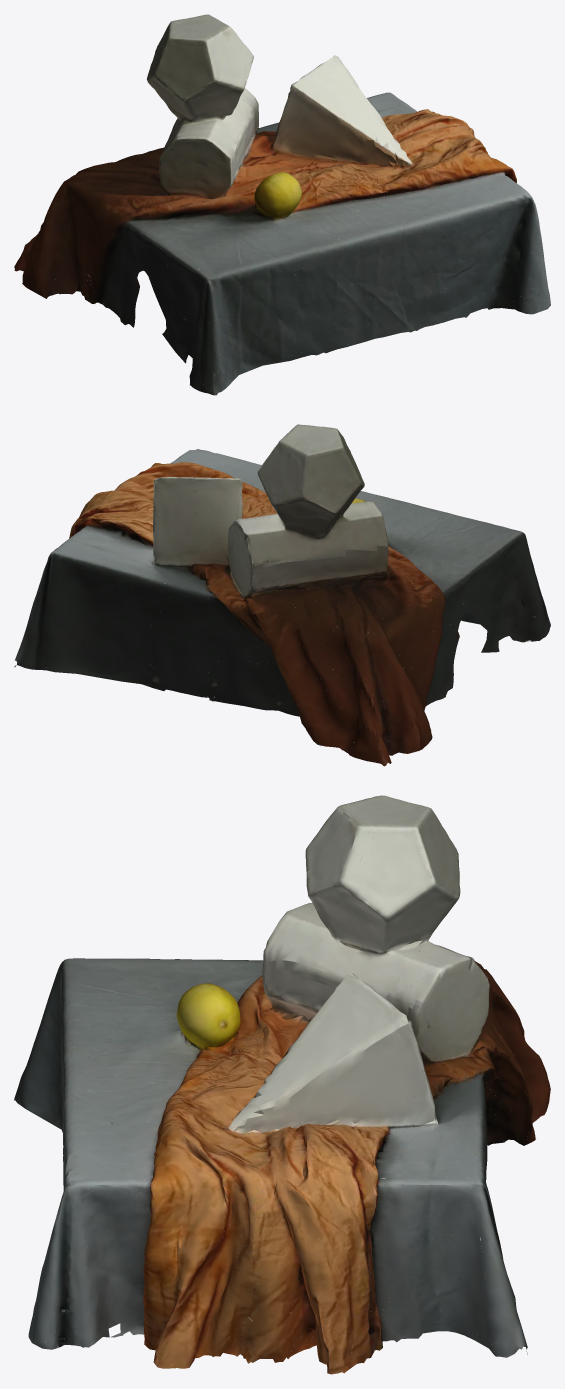
File: 静物_几何体_几何体柠檬静物01_opt.glb
The picture shows the model from 3 angles, top to bottom: view 1: azimuth 30°, elevation 25°; view 2: azimuth 150°, elevation 25°; view 3: azimuth 270°, elevation 25°; orthographic projection. The views are drawn at different scales.
Parts seen in each view (by area): view 1: defaultMat, defaultMat_1; view 2: defaultMat, defaultMat_1; view 3: defaultMat, defaultMat_1.
Boxes of the visible parts, left/top/right/bottom form: defaultMat: left=14, top=14, right=550, bottom=395; defaultMat_1: left=14, top=18, right=550, bottom=393; defaultMat: left=14, top=424, right=550, bottom=766; defaultMat_1: left=16, top=427, right=550, bottom=765; defaultMat: left=14, top=795, right=550, bottom=1374; defaultMat_1: left=14, top=797, right=548, bottom=1373.
Bounding box in the file's own units: 0.5091 × 0.3 × 0.3912.
Materials: 1 (1 with a texture image).
